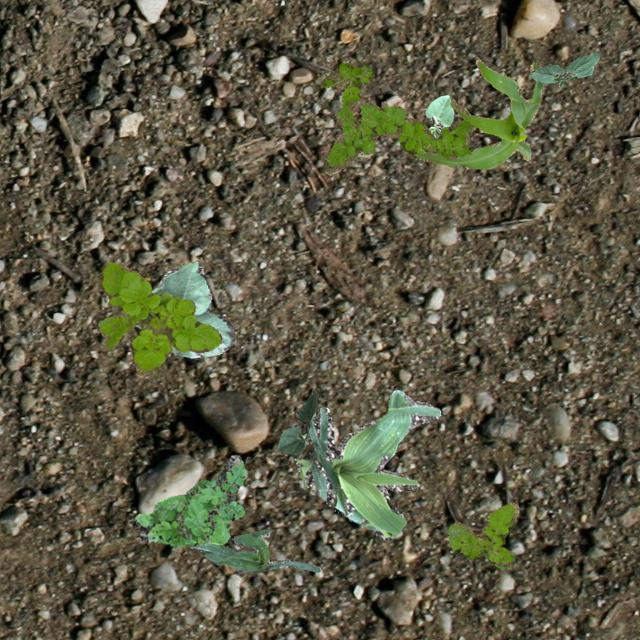crop: (294, 388, 440, 540), (380, 56, 542, 168), (150, 260, 234, 358), (192, 528, 318, 572), (276, 389, 316, 454), (528, 52, 598, 86), (423, 94, 452, 138)
weed: (320, 62, 472, 172), (96, 262, 220, 374), (134, 454, 246, 546), (446, 502, 518, 568)
